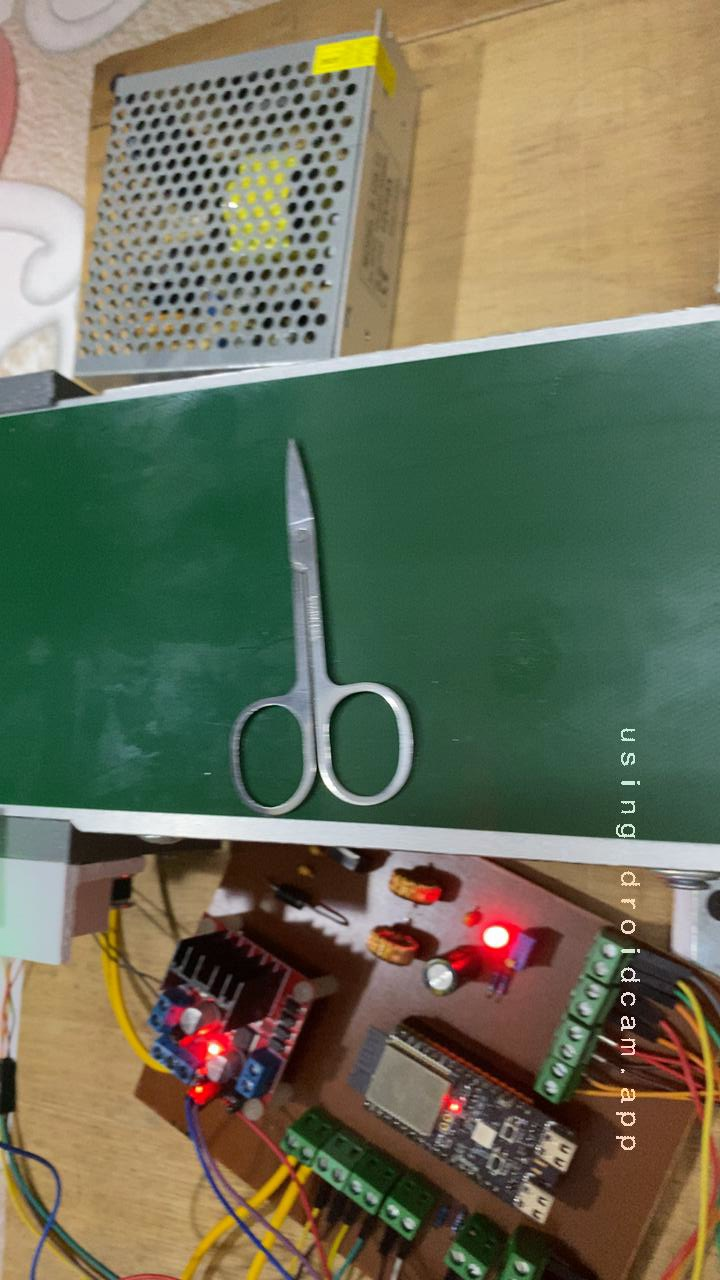scissor: (191, 420, 442, 825)
